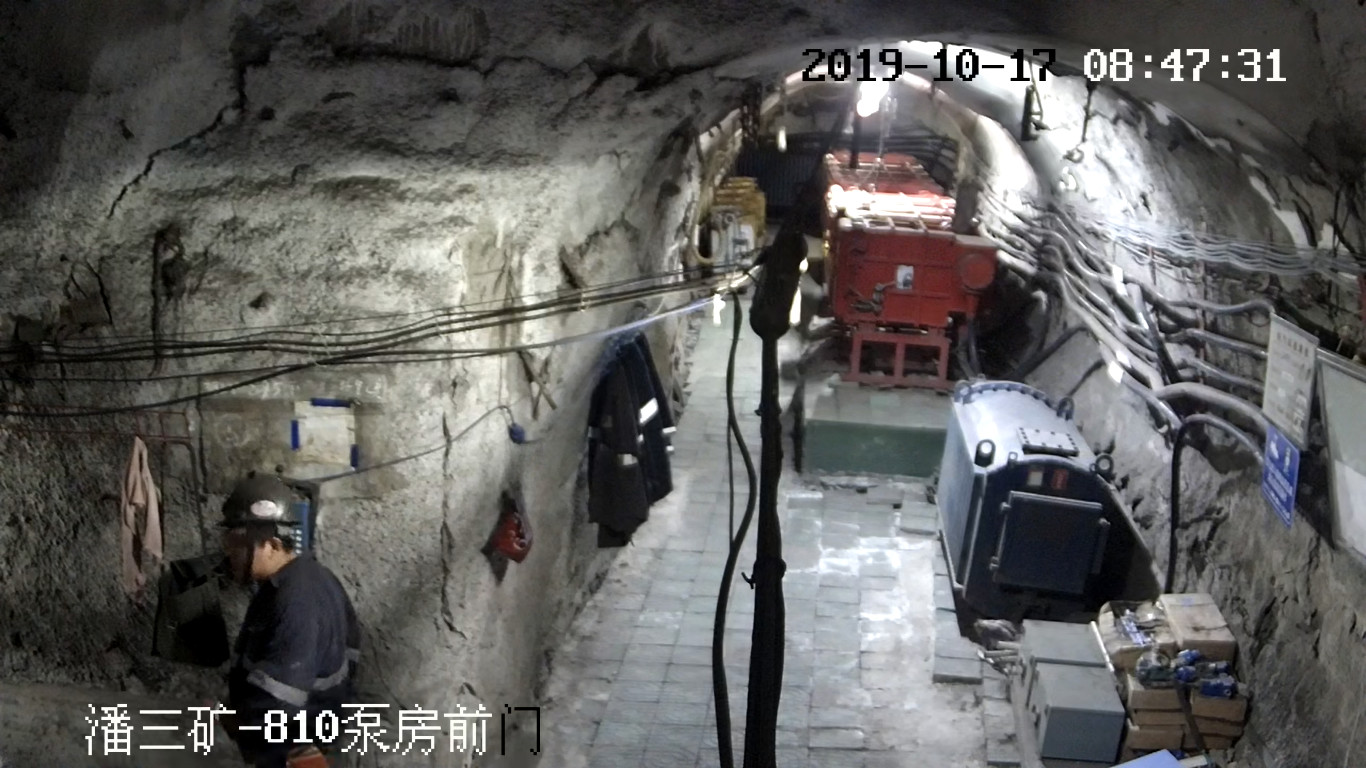helmet: (215, 473, 302, 525)
